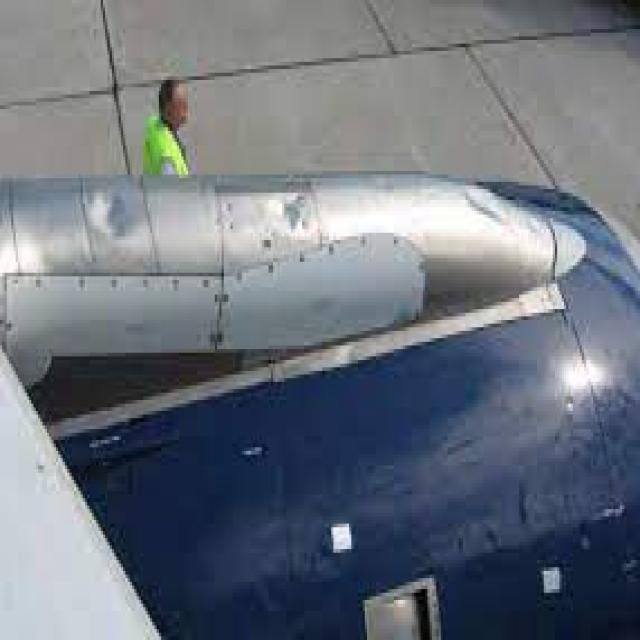Dent: (83, 184, 147, 243), (267, 193, 318, 240), (463, 187, 515, 229)
